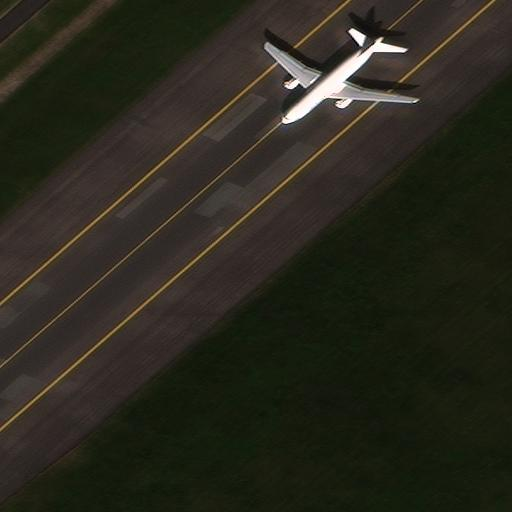Medium Civil Transport: (263, 31, 417, 126)
